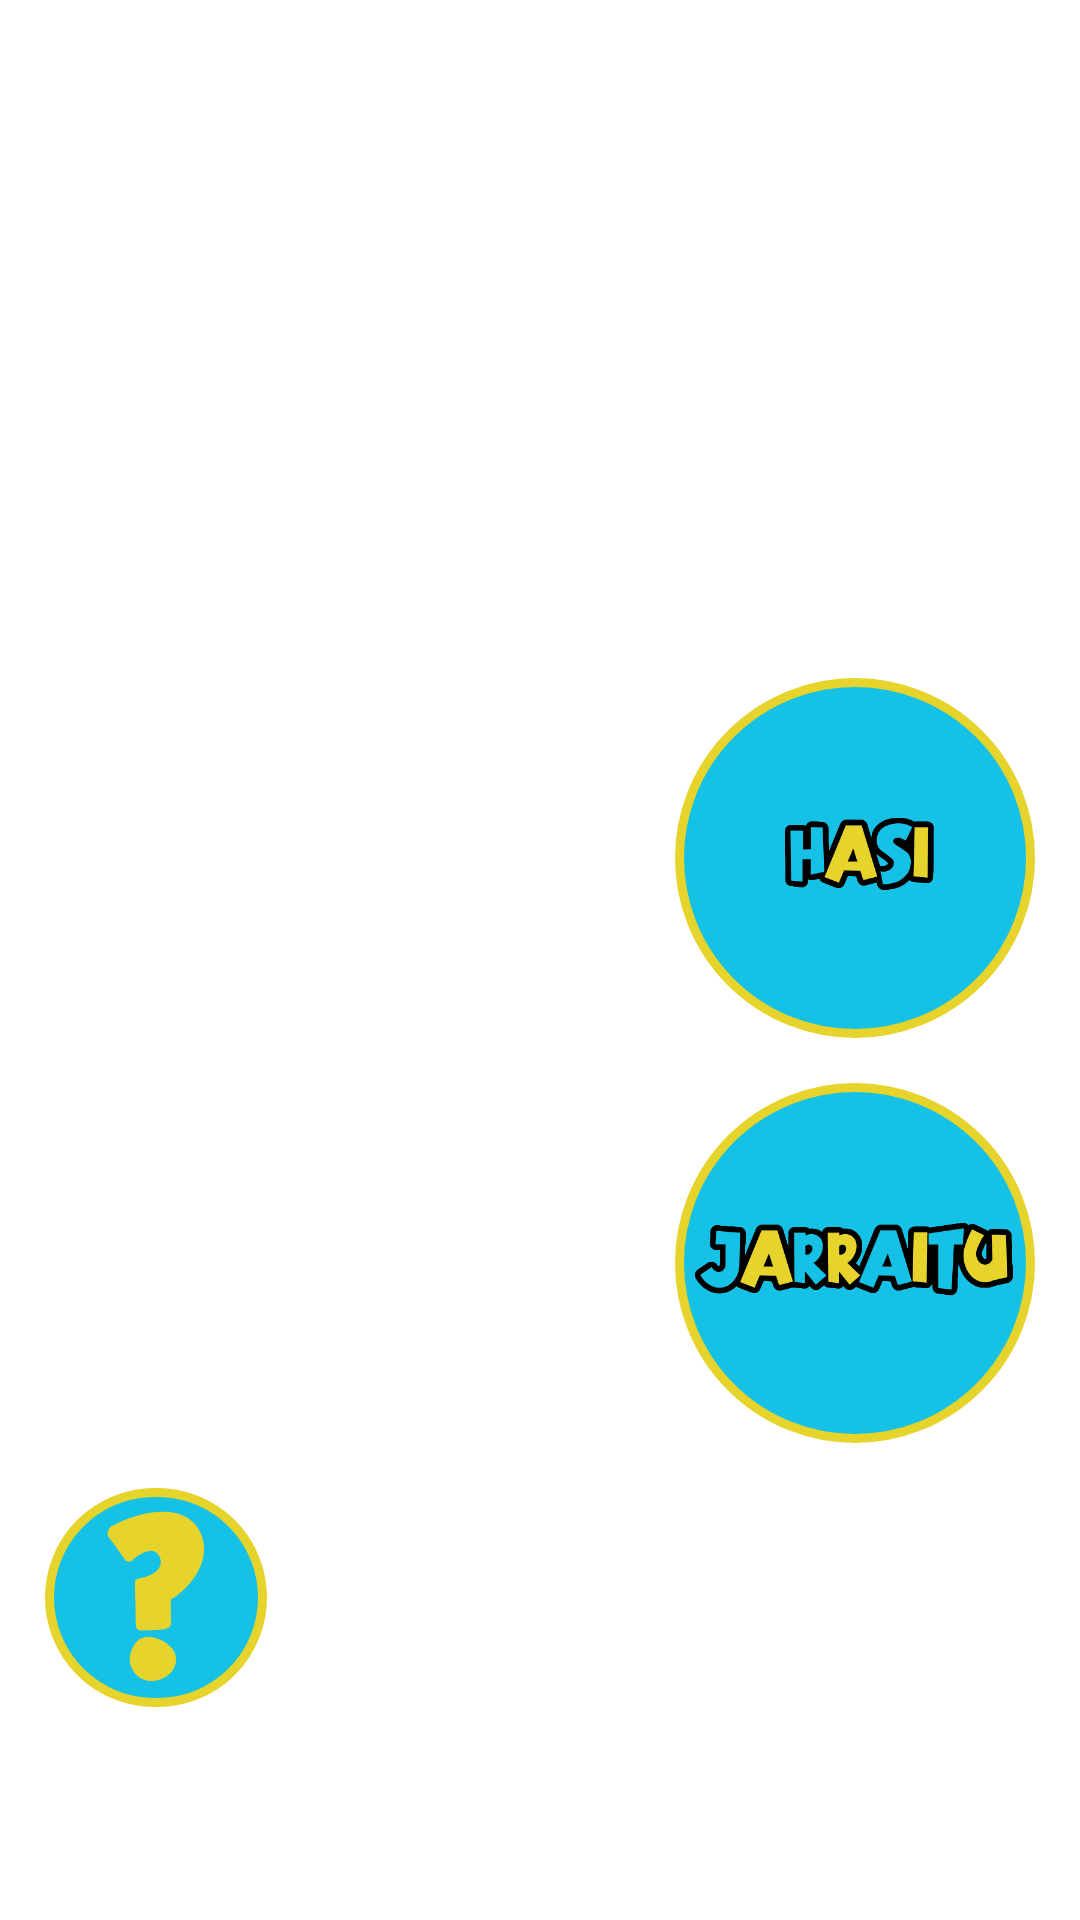

Icons on this 1080 × 1920 Android screen, each with the point to tap as [x,y]:
signo interrogacion: [156,1597]
